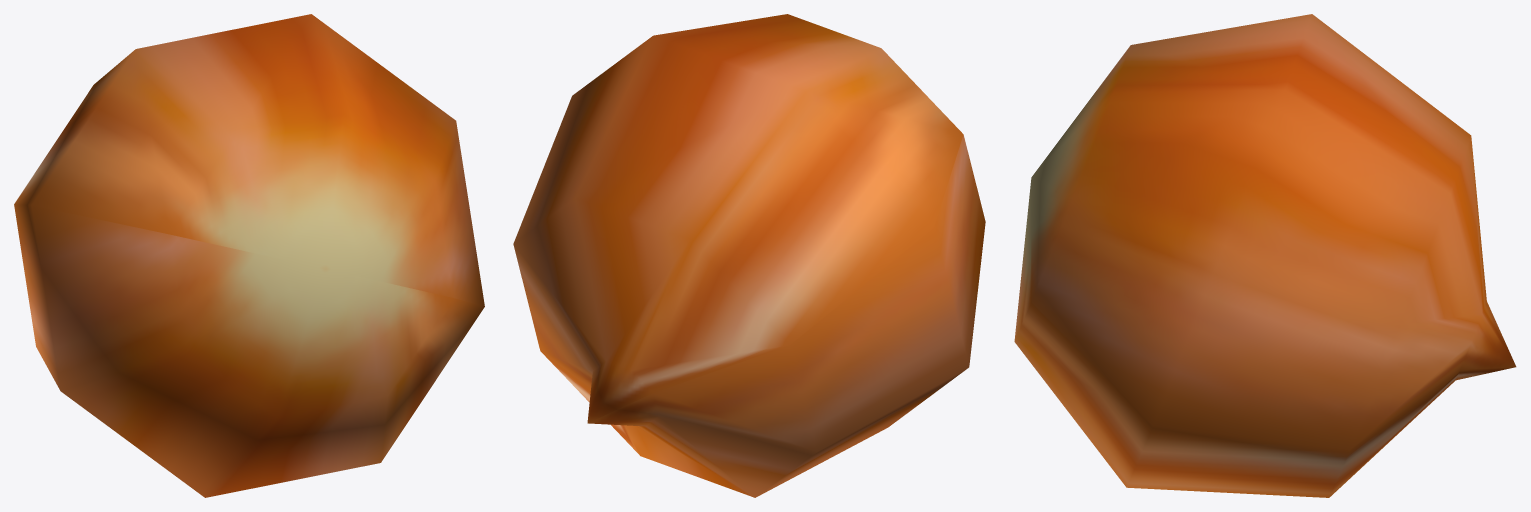
The model's file is SM_PROP_food_onion.FBX.
3 renders of one model, left to right at view 1: azimuth 30°, elevation 25°; view 2: azimuth 150°, elevation 25°; view 3: azimuth 270°, elevation 25°, orthographic. The views are drawn at different scales.
Visible parts, largest first — view 1: SM_PROP_food_onion; view 2: SM_PROP_food_onion; view 3: SM_PROP_food_onion.
Boxes of the visible parts, box(x1,y1,x2,y2) form: SM_PROP_food_onion: box(14, 14, 484, 497); SM_PROP_food_onion: box(513, 14, 985, 497); SM_PROP_food_onion: box(1014, 14, 1516, 497).
Size of the model in its own units: 16.73 by 17.9 by 16.37.
